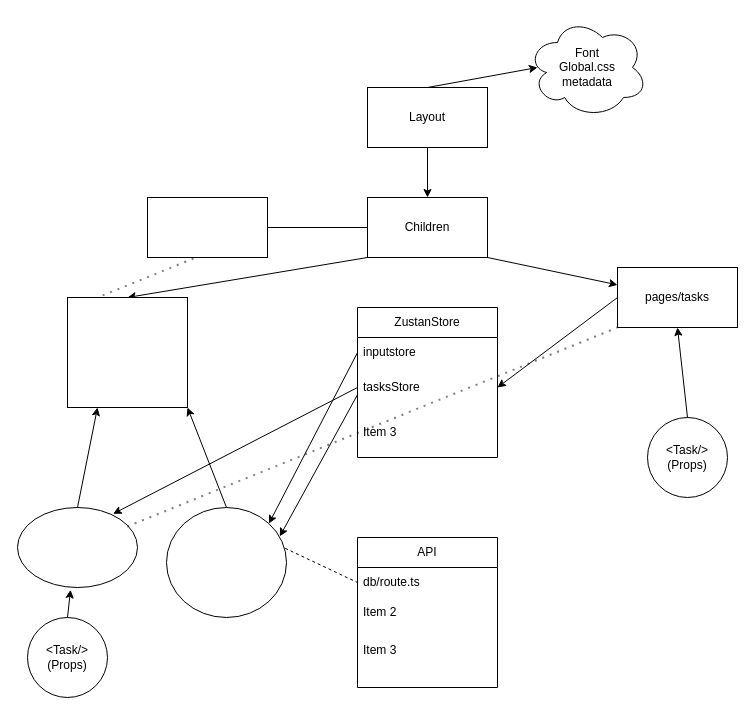
The diagram is 755 pixels wide and 715 high, and some of its shapes have lost their labels. Here are the shapes that lost their labels. From the top down, the centre of each, then its label:
the point at 207,227: root/page.tsx link to "pages/form"
the point at 127,352: pages/form "client"
the point at 77,547: <Tasks/> (store) link to pages/tasks
the point at 226,562: <Fillform /> (stores) api-call update inputs add task
